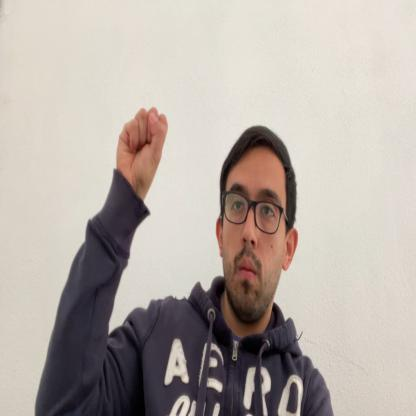S: (116, 105, 168, 192)
